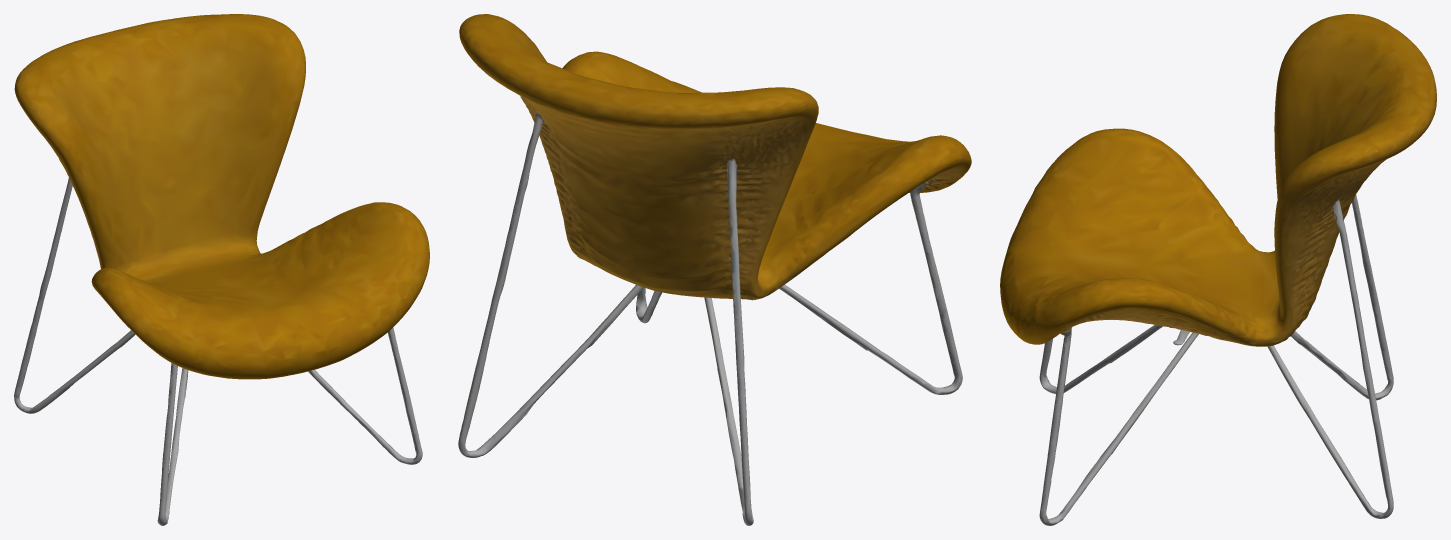
The model's file is lounge_chair.glb.
3 renders of one model, left to right at view 1: azimuth 30°, elevation 25°; view 2: azimuth 150°, elevation 25°; view 3: azimuth 270°, elevation 25°, orthographic. The views are drawn at different scales.
Size of the model in its own units: 0.9116 by 0.9569 by 0.9991.
